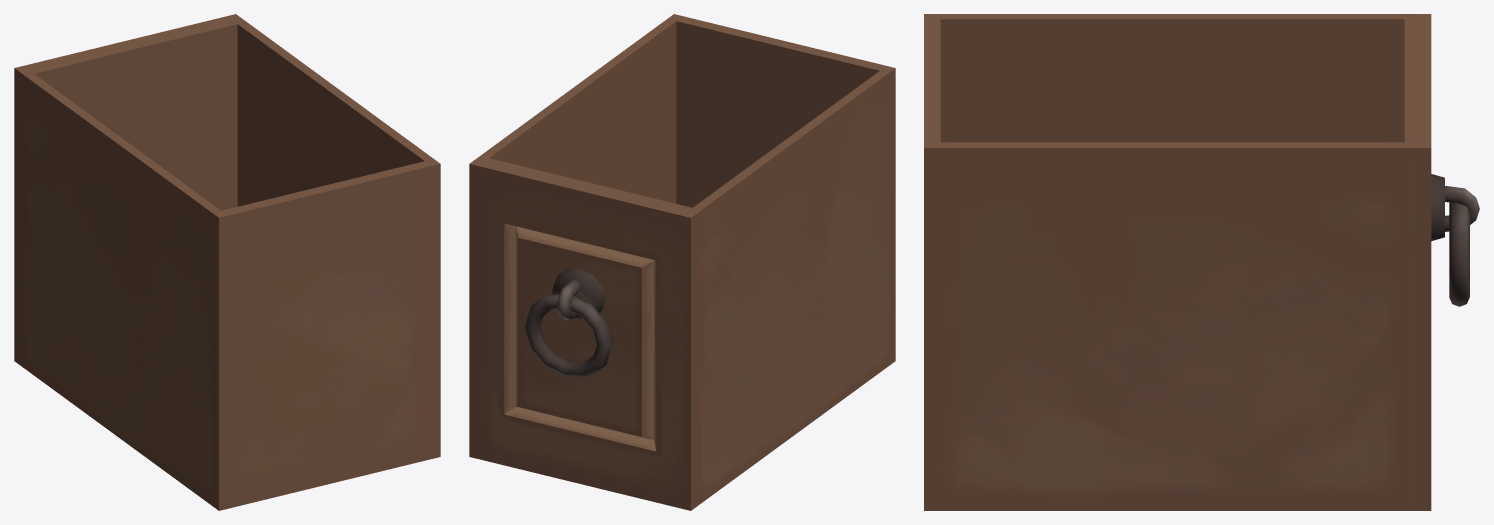
The model's file is EmptyBox.fbx.
3 renders of one model, left to right at view 1: azimuth 30°, elevation 25°; view 2: azimuth 150°, elevation 25°; view 3: azimuth 270°, elevation 25°, orthographic. The views are drawn at different scales.
Visible parts, largest first — view 1: case2, EmptyBox; view 2: case2, EmptyBox, handle, handleBase (1), handleSet; view 3: case2, EmptyBox, handle, handleBase (1), handleSet.
Boxes of the visible parts, left/top/right/bottom form: case2: left=21, top=19, right=440, bottom=510; EmptyBox: left=14, top=14, right=242, bottom=365; case2: left=476, top=14, right=895, bottom=505; EmptyBox: left=469, top=159, right=697, bottom=510; handle: left=524, top=294, right=612, bottom=376; handleBase (1): left=552, top=269, right=605, bottom=318; handleSet: left=557, top=280, right=580, bottom=320; case2: left=924, top=14, right=1414, bottom=510; EmptyBox: left=1414, top=14, right=1431, bottom=510; handle: left=1449, top=202, right=1469, bottom=306; handleBase (1): left=1431, top=174, right=1444, bottom=241; handleSet: left=1445, top=186, right=1479, bottom=231.
Bounding box in the file's own units: 2.5 × 3.16 × 4.38.
